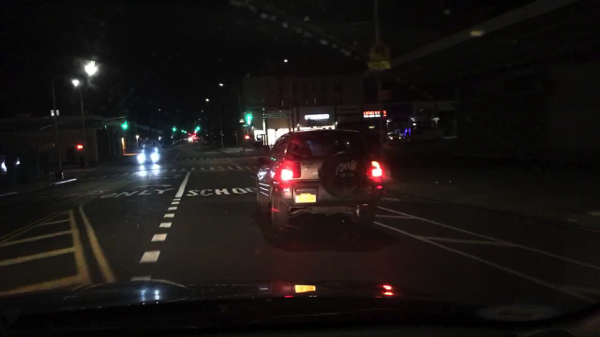car: (256, 127, 388, 230), (136, 147, 162, 164), (385, 131, 399, 143), (190, 139, 198, 146), (170, 140, 177, 147), (204, 140, 211, 146), (200, 136, 204, 145), (176, 139, 183, 144)
traffic light: (75, 143, 85, 151), (244, 113, 253, 121), (121, 120, 129, 128), (243, 134, 250, 141), (171, 126, 178, 132), (181, 126, 187, 133), (195, 125, 200, 132)
traffic sign: (369, 42, 390, 61), (367, 62, 392, 71), (263, 113, 288, 118), (100, 121, 126, 125), (50, 109, 61, 117), (242, 123, 253, 128)
